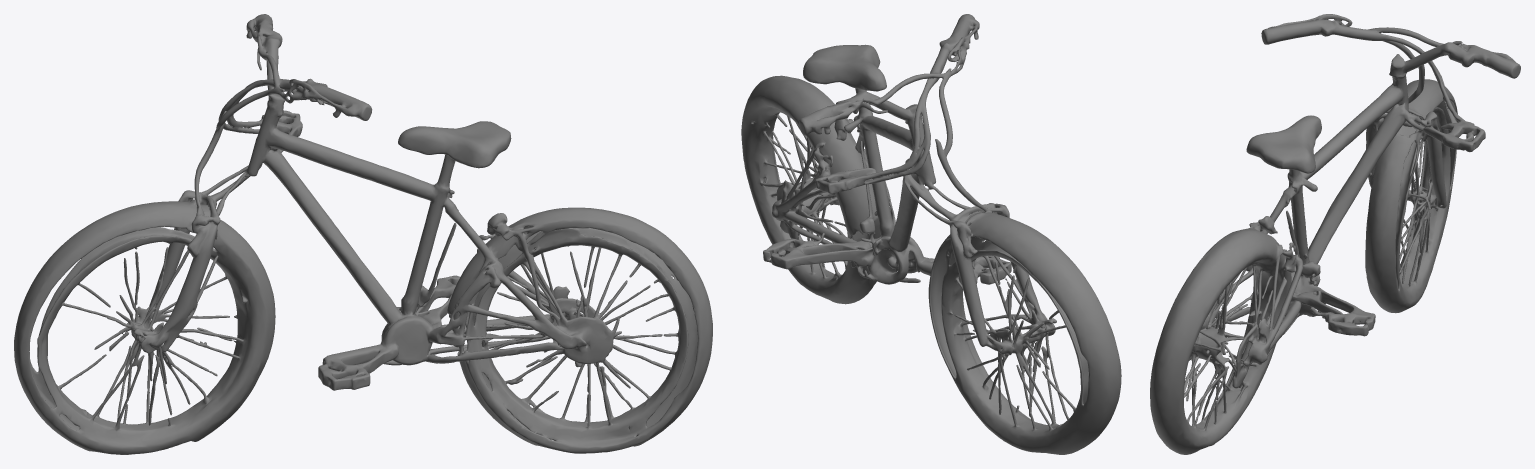
File: bicycle.glb
3 renders of one model, left to right at view 1: azimuth 30°, elevation 25°; view 2: azimuth 150°, elevation 25°; view 3: azimuth 270°, elevation 25°, orthographic. The views are drawn at different scales.
Parts seen in each view (by area): view 1: world; view 2: world; view 3: world.
Boxes of the visible parts, box(x1,y1,x2,y2) form: world: box(14, 14, 712, 454); world: box(741, 14, 1121, 454); world: box(1150, 14, 1520, 454).
Bounding box in the file's own units: 1 × 0.6496 × 0.6555.
1 material, 1 textured.
